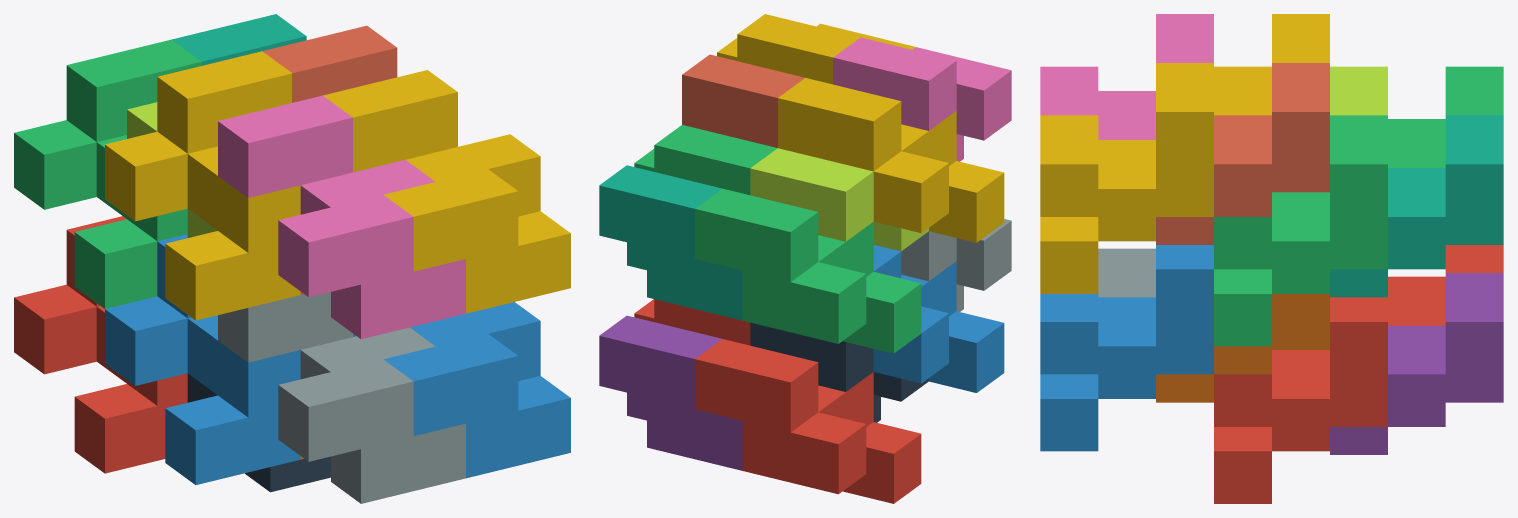
Rendered from tiling.obj.
3 views of the same model, side by side, from view 1: azimuth 30°, elevation 25°; view 2: azimuth 150°, elevation 25°; view 3: azimuth 270°, elevation 25° (orthographic). The views are drawn at different scales.
Visible parts, largest first — view 1: copy_2_domain_4, copy_2_domain_8, copy_1_domain_4, copy_2_domain_2, copy_1_domain_3, copy_1_domain_2, copy_2_domain_6, copy_1_domain_1, copy_1_domain_8, copy_1_domain_7, copy_2_domain_1, copy_2_domain_3; view 2: copy_1_domain_1, copy_1_domain_3, copy_1_domain_4, copy_1_domain_7, copy_1_domain_5, copy_2_domain_4, copy_1_domain_2, copy_2_domain_3, copy_1_domain_8, copy_2_domain_8, copy_2_domain_7, copy_2_domain_1 (+2 smaller); view 3: copy_2_domain_8, copy_2_domain_6, copy_2_domain_7, copy_2_domain_5, copy_1_domain_7, copy_1_domain_5, copy_1_domain_8, copy_2_domain_4, copy_1_domain_6, copy_1_domain_3, copy_1_domain_4, copy_1_domain_1 (+2 smaller).
Part boxes in pixels (x1=…): copy_2_domain_4: x1=218, y1=95, x2=465, y2=339; copy_2_domain_8: x1=323, y1=70, x2=570, y2=313; copy_1_domain_4: x1=105, y1=51, x2=300, y2=320; copy_2_domain_2: x1=218, y1=292, x2=465, y2=503; copy_1_domain_3: x1=14, y1=39, x2=201, y2=308; copy_1_domain_2: x1=105, y1=234, x2=300, y2=484; copy_2_domain_6: x1=353, y1=302, x2=570, y2=478; copy_1_domain_1: x1=14, y1=216, x2=187, y2=473; copy_1_domain_8: x1=262, y1=25, x2=397, y2=294; copy_1_domain_7: x1=171, y1=14, x2=306, y2=65; copy_2_domain_1: x1=187, y1=373, x2=330, y2=492; copy_2_domain_3: x1=127, y1=102, x2=217, y2=237; copy_1_domain_1: x1=695, y1=339, x2=921, y2=503; copy_1_domain_3: x1=695, y1=188, x2=921, y2=353; copy_1_domain_4: x1=778, y1=78, x2=1004, y2=242; copy_1_domain_7: x1=599, y1=165, x2=742, y2=320; copy_1_domain_5: x1=599, y1=315, x2=742, y2=470; copy_2_domain_4: x1=833, y1=37, x2=1011, y2=161; copy_1_domain_2: x1=873, y1=245, x2=1004, y2=392; copy_2_domain_3: x1=750, y1=148, x2=928, y2=251; copy_1_domain_8: x1=682, y1=54, x2=804, y2=147; copy_2_domain_8: x1=717, y1=14, x2=915, y2=84; copy_2_domain_7: x1=634, y1=125, x2=777, y2=195; copy_2_domain_1: x1=750, y1=322, x2=928, y2=422; copy_2_domain_8: x1=1040, y1=63, x2=1213, y2=293; copy_2_domain_6: x1=1040, y1=245, x2=1213, y2=451; copy_2_domain_7: x1=1214, y1=115, x2=1387, y2=346; copy_2_domain_5: x1=1214, y1=297, x2=1387, y2=503; copy_1_domain_7: x1=1330, y1=115, x2=1503, y2=297; copy_1_domain_5: x1=1330, y1=273, x2=1503, y2=454; copy_1_domain_8: x1=1156, y1=63, x2=1329, y2=244; copy_2_domain_4: x1=1040, y1=14, x2=1213, y2=139; copy_1_domain_6: x1=1156, y1=294, x2=1329, y2=402; copy_1_domain_3: x1=1388, y1=66, x2=1503, y2=167; copy_1_domain_4: x1=1214, y1=14, x2=1329, y2=115; copy_1_domain_1: x1=1388, y1=245, x2=1503, y2=325.
Bounding box in the file's own units: 6 × 7 × 8.
